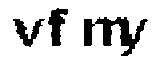f: (45, 3, 70, 50)
m: (77, 12, 130, 48)
v: (10, 14, 41, 49)
y: (114, 13, 150, 60)
